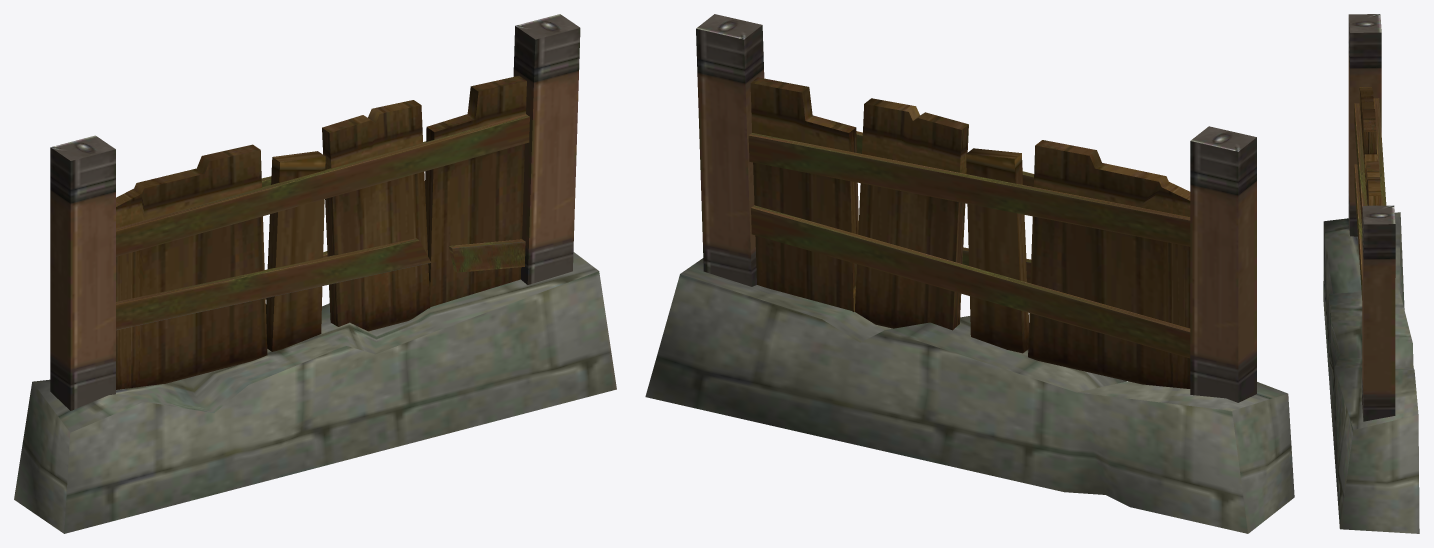
The model's file is Yland3_jz_12 Yland3.FBX.
3 views of the same model, side by side, from view 1: azimuth 30°, elevation 25°; view 2: azimuth 150°, elevation 25°; view 3: azimuth 270°, elevation 25° (orthographic). The views are drawn at different scales.
Parts seen in each view (by area): view 1: Yland3_jz_12 Yland3; view 2: Yland3_jz_12 Yland3; view 3: Yland3_jz_12 Yland3.
Part boxes in pixels (left/top/right/bottom): Yland3_jz_12 Yland3: left=14, top=14, right=616, bottom=533; Yland3_jz_12 Yland3: left=645, top=14, right=1294, bottom=533; Yland3_jz_12 Yland3: left=1323, top=14, right=1419, bottom=533.
Size of the model in its own units: 10.27 by 6.07 by 1.79.
